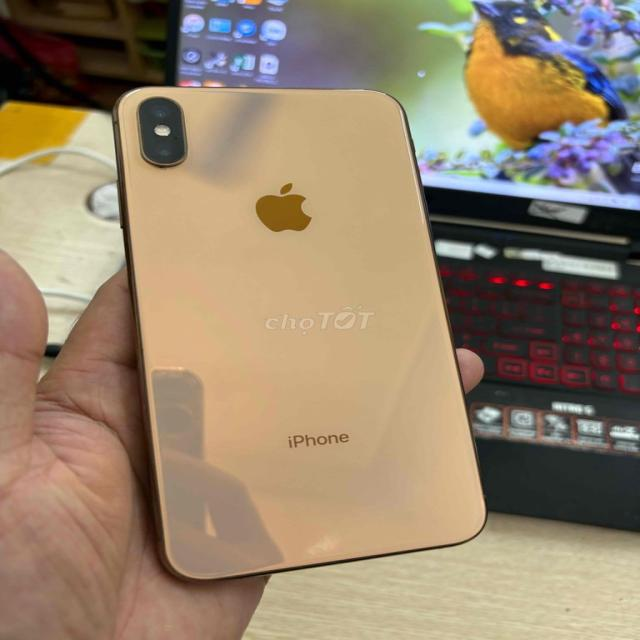gen_x_xs: (109, 61, 495, 584)
